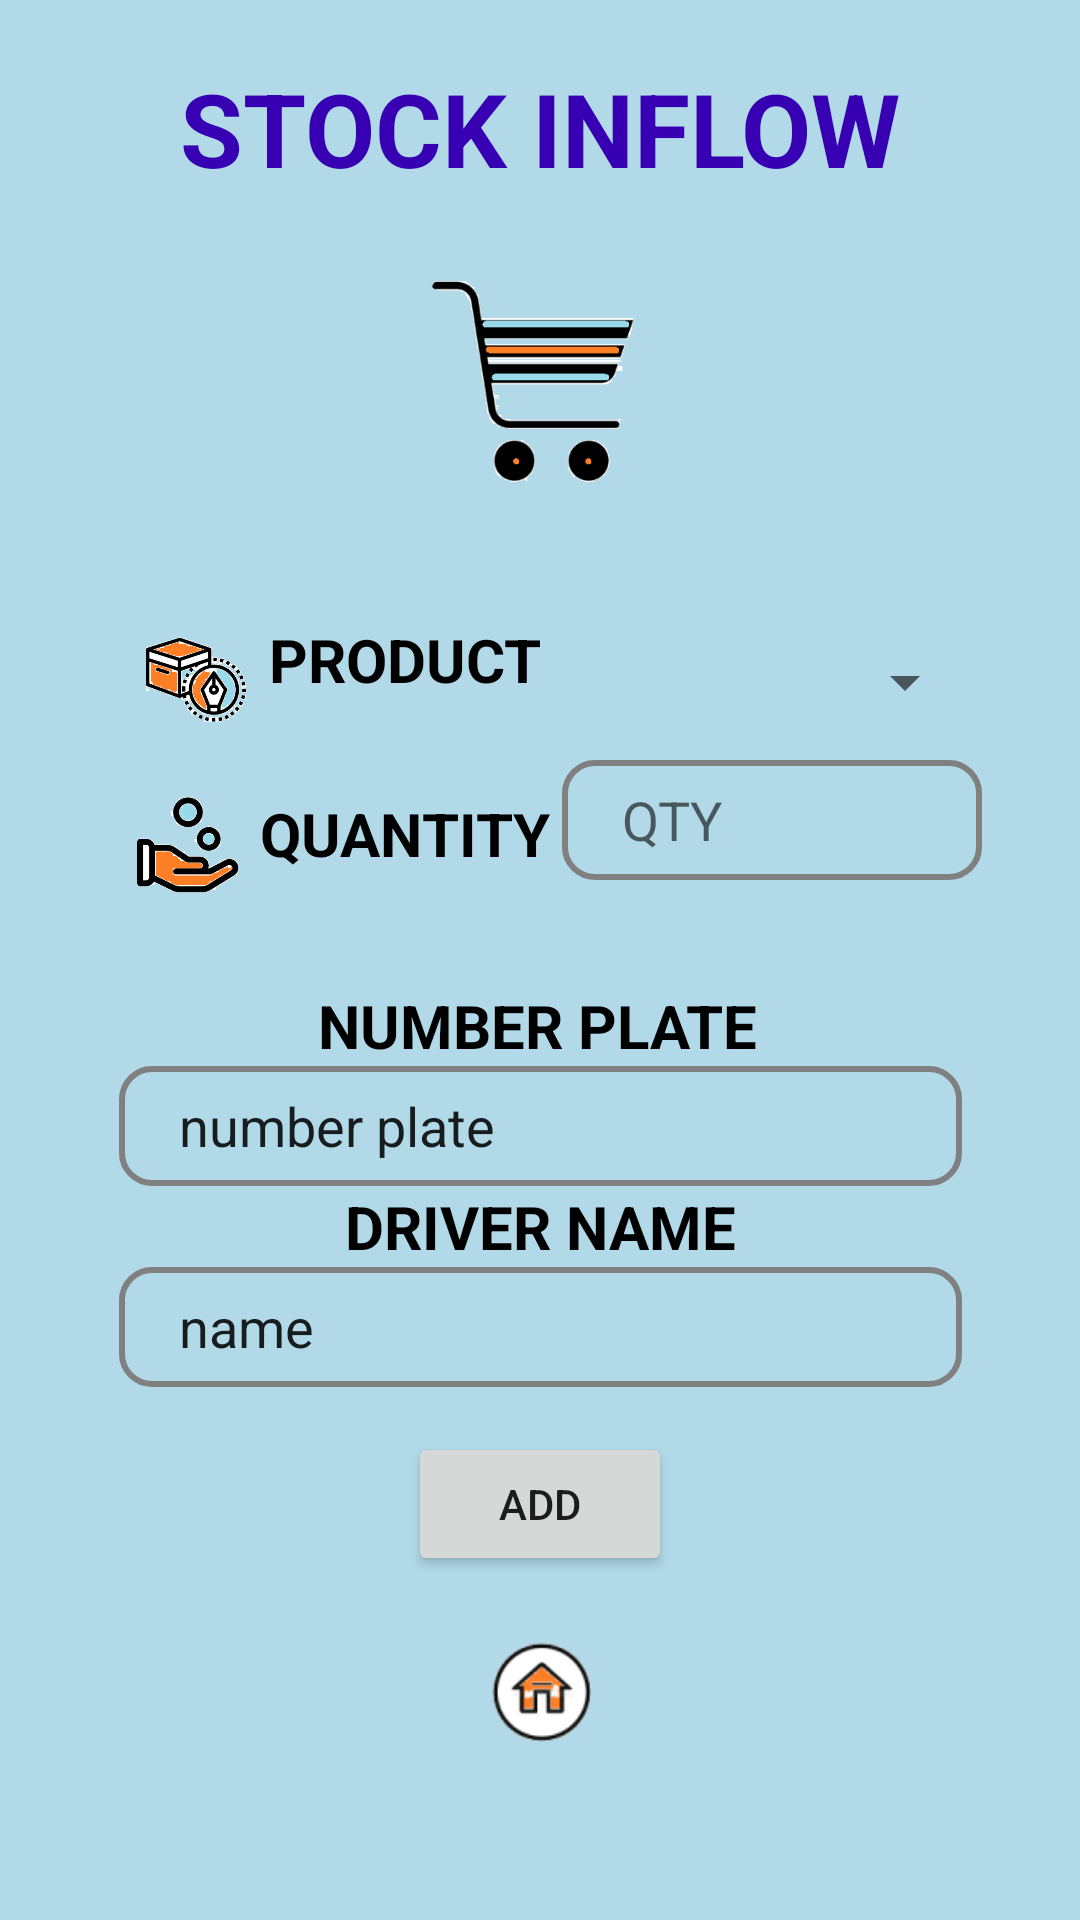

Where to tap for icons on this 1080 × 1920 app screen, as point (x, y):
comodity: point (196, 679)
purcha: point (533, 381)
